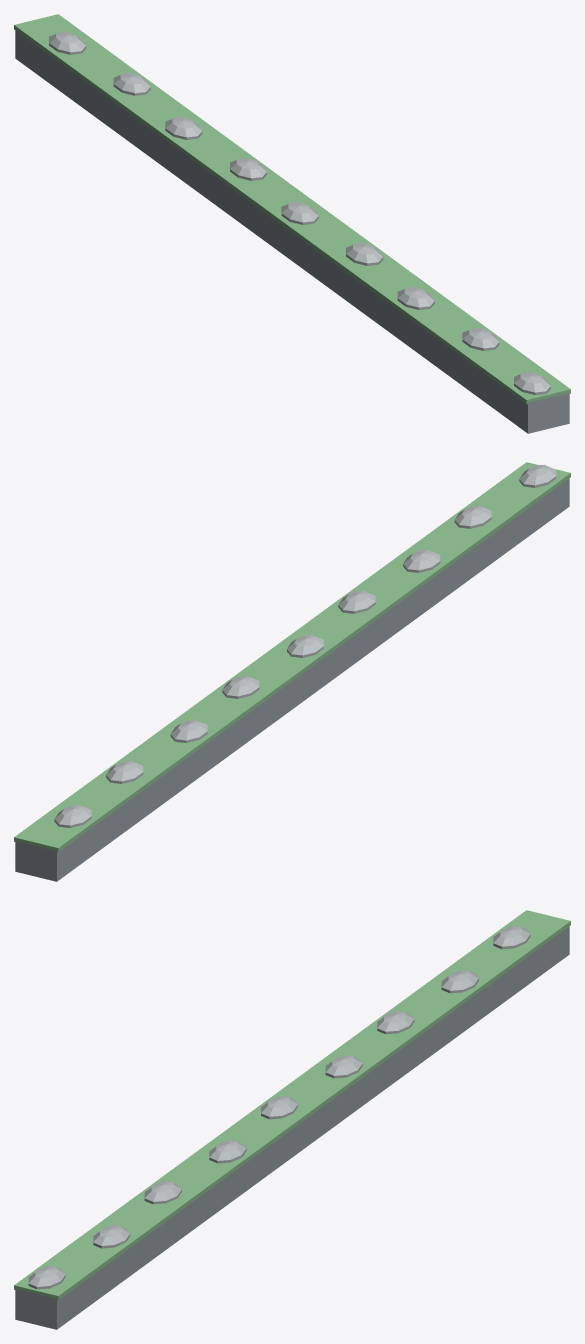
Rendered from divisor_rapido.glb.
The picture shows the model from 3 angles, top to bottom: view 1: azimuth 30°, elevation 25°; view 2: azimuth 150°, elevation 25°; view 3: azimuth 330°, elevation 25°; orthographic projection.
Parts seen in each view (by area): view 1: divisor_rapido; view 2: divisor_rapido; view 3: divisor_rapido.
Part boxes in pixels (x1=…): divisor_rapido: x1=14, y1=14, x2=570, y2=433; divisor_rapido: x1=14, y1=462, x2=570, y2=881; divisor_rapido: x1=14, y1=910, x2=570, y2=1329.
Bounding box in the file's own units: 1.5 × 1.41 × 30.
